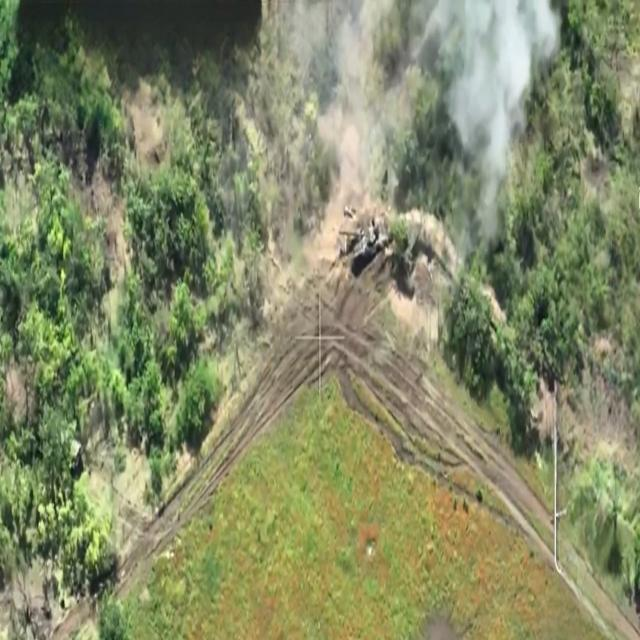MBT: (339, 218, 389, 271)
